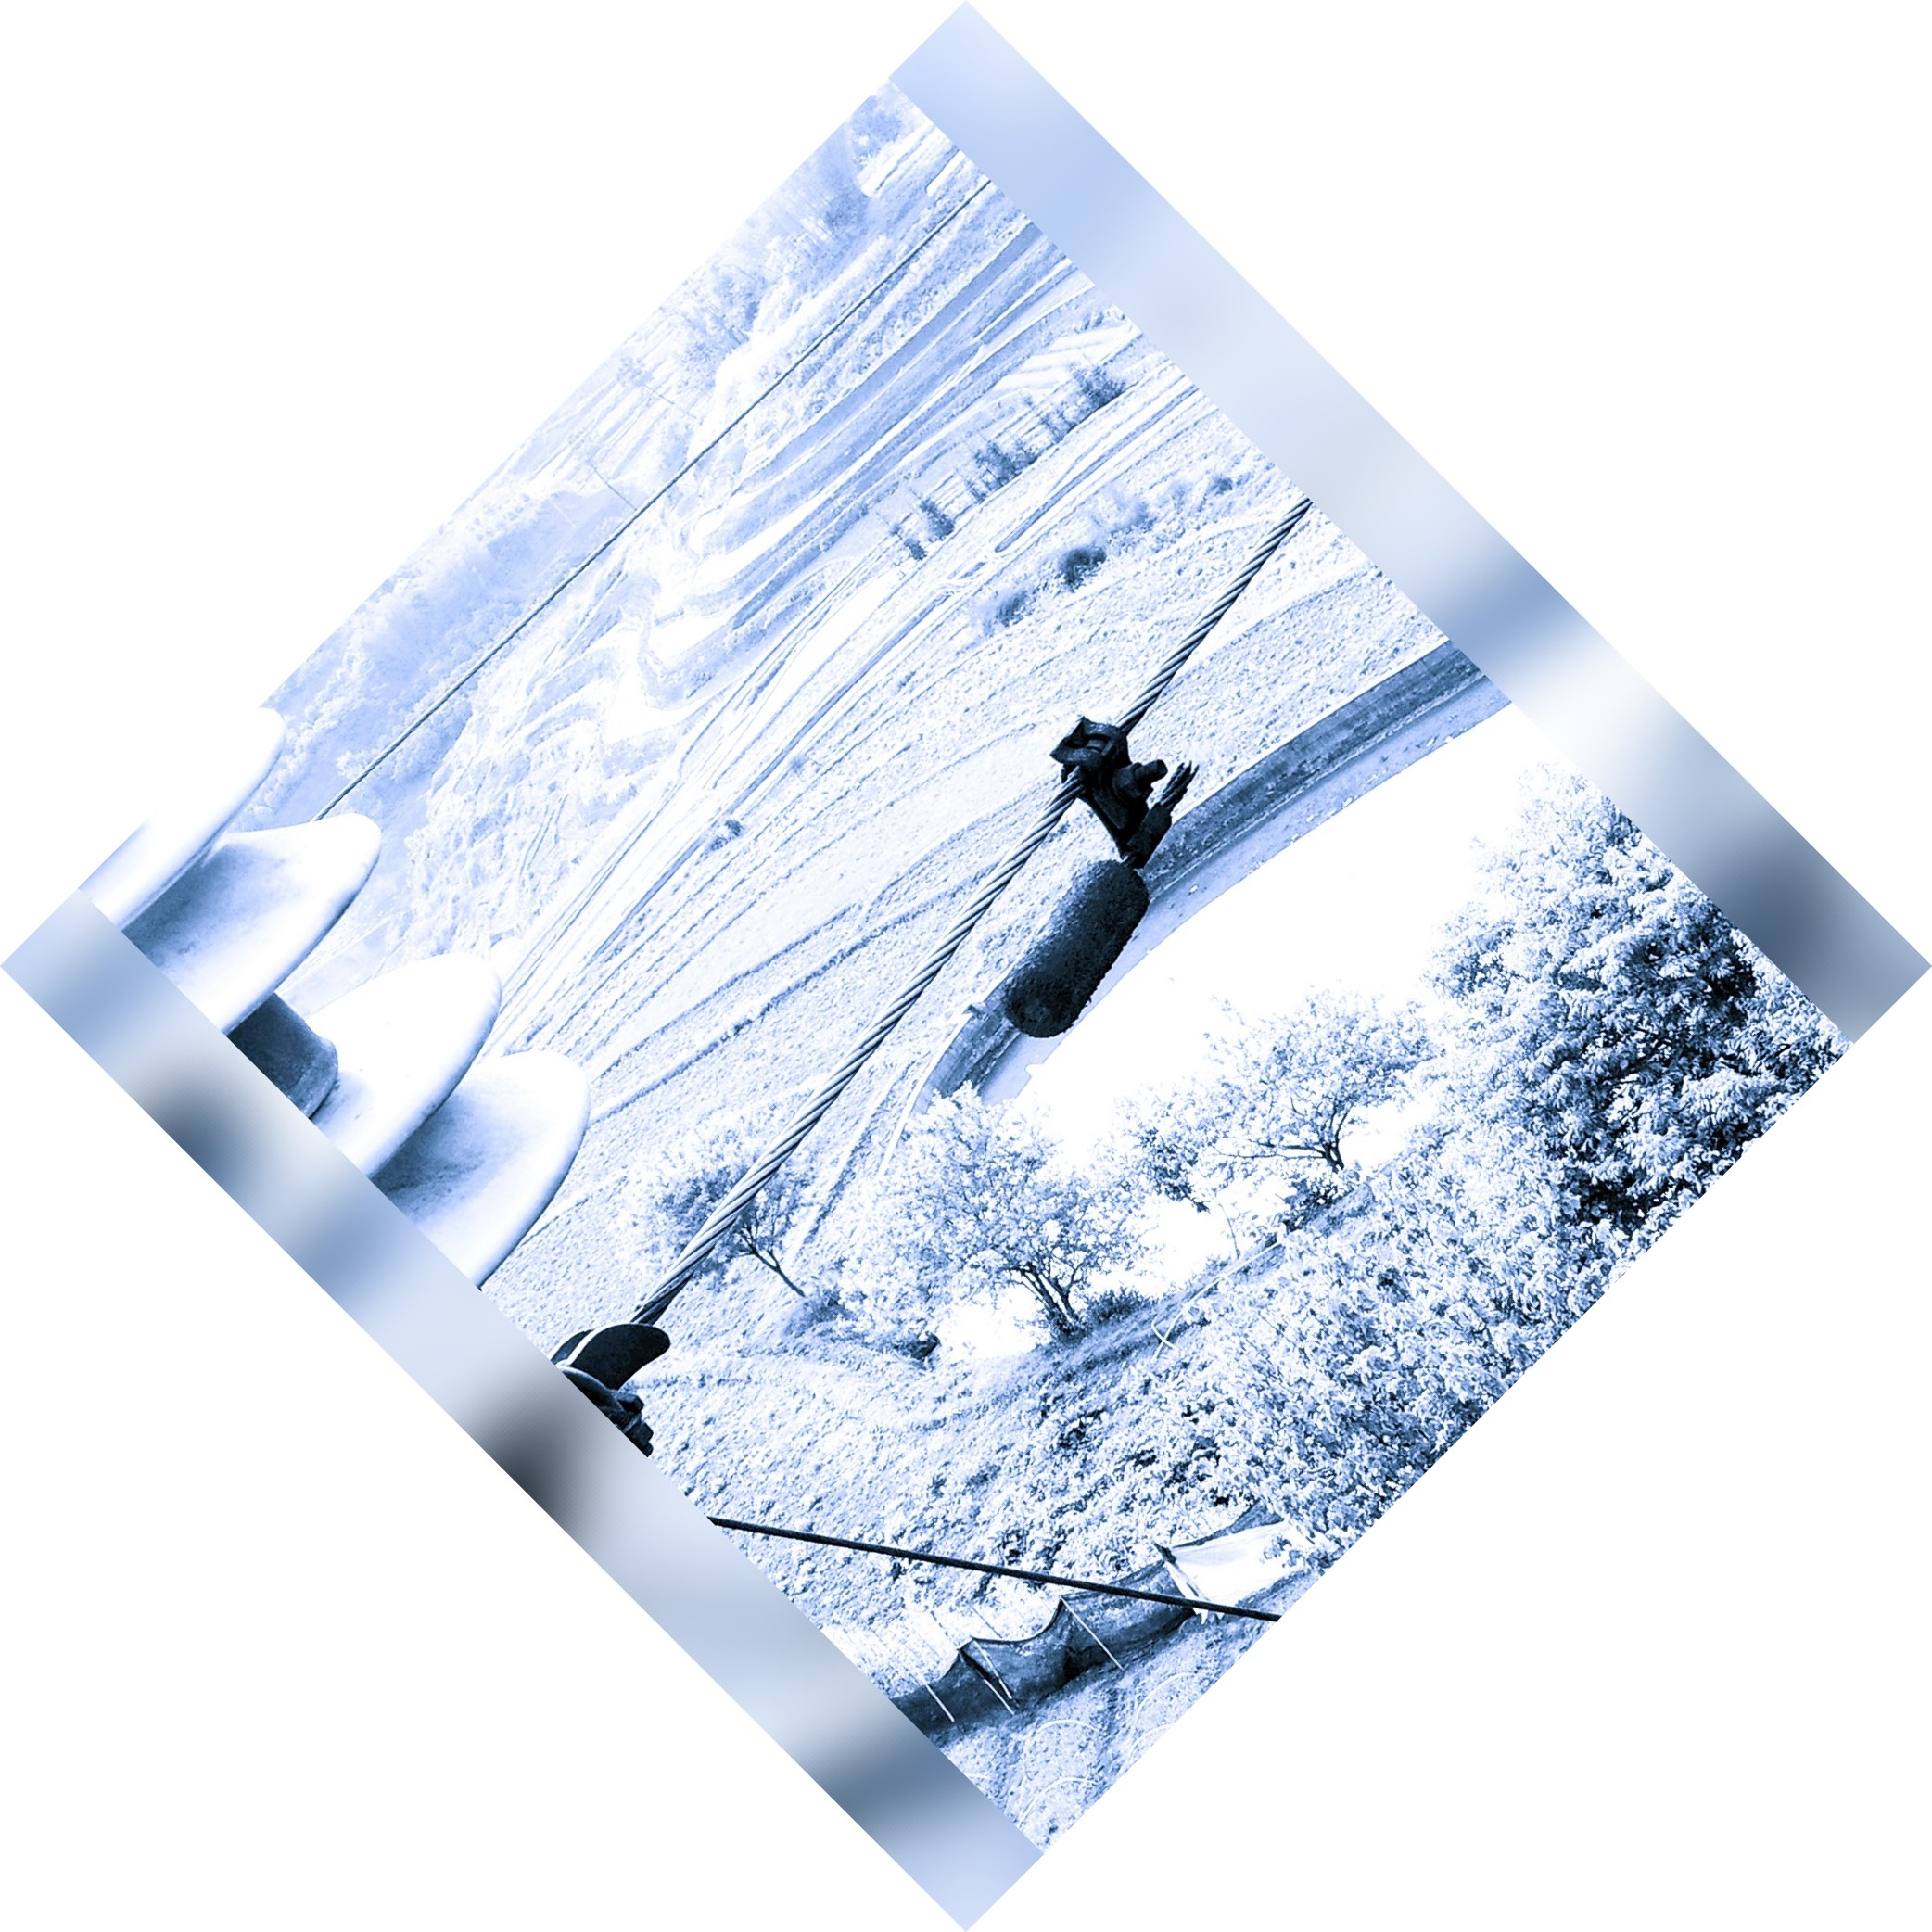Damage of shockproof hammer: (941, 694, 1253, 1047)
